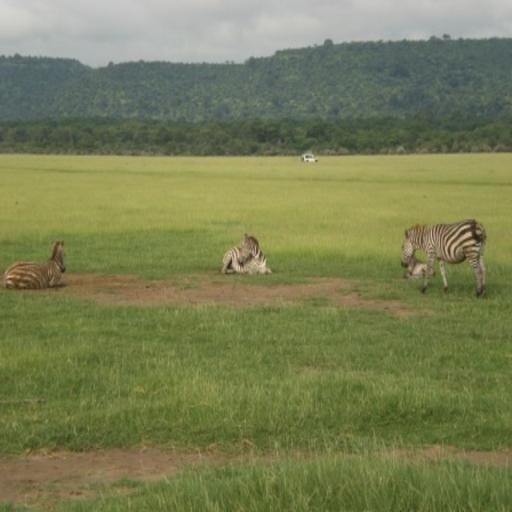Zebra: (399, 220, 487, 298), (0, 236, 69, 287), (218, 230, 273, 276)
